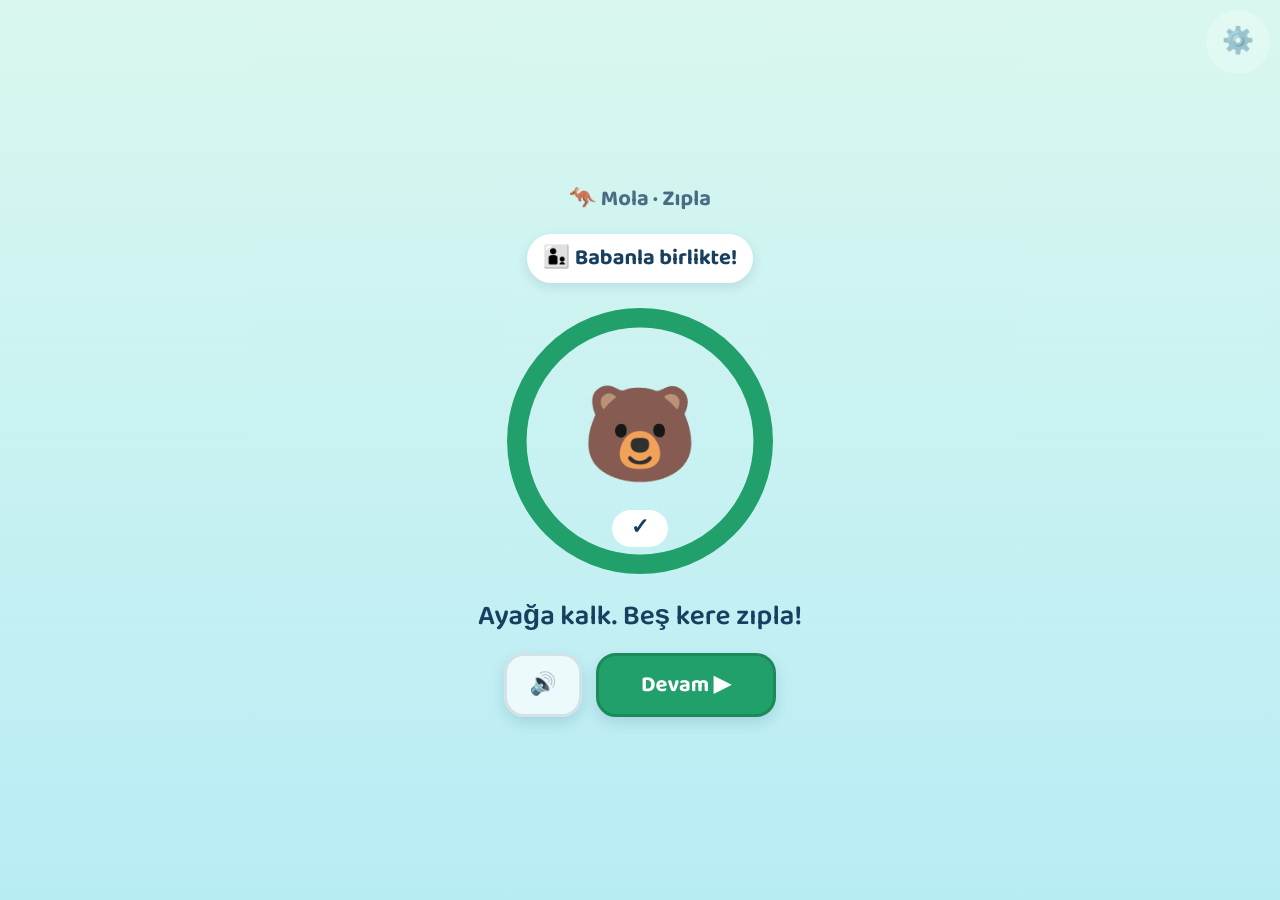
Test: AppOverlays › mola: halka breakSeconds kadar sürer, sonra Devam ▶ çıkar
Expected: the text "👨‍👦 Babanla birlikte!" is shown, [527,234,753,283]
What coordinates should you click on to do the following:
click the button "Devam ▶"
I would click on:
 (686, 685)
Its box is [596,653,776,717].
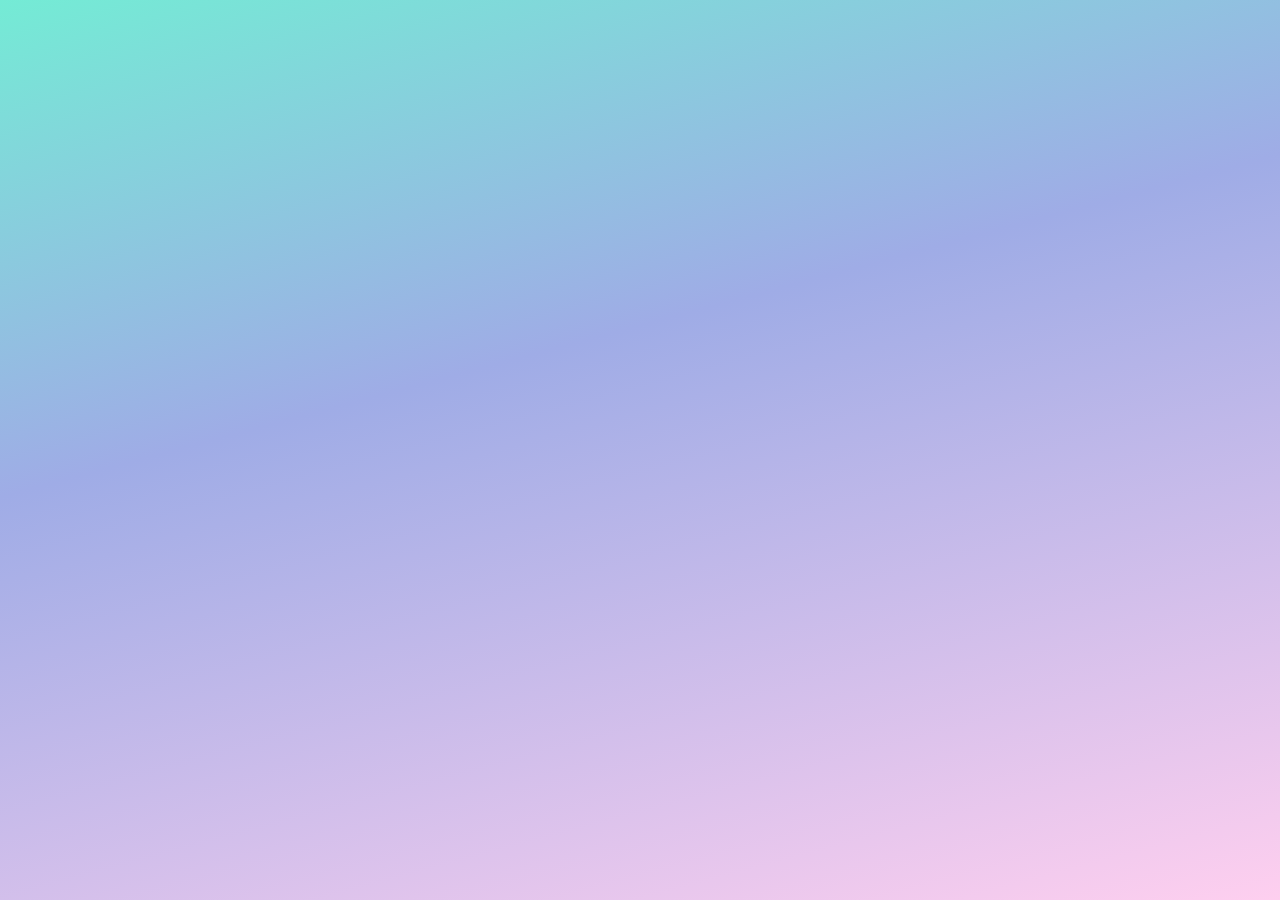
Expected: the dialog is gone
